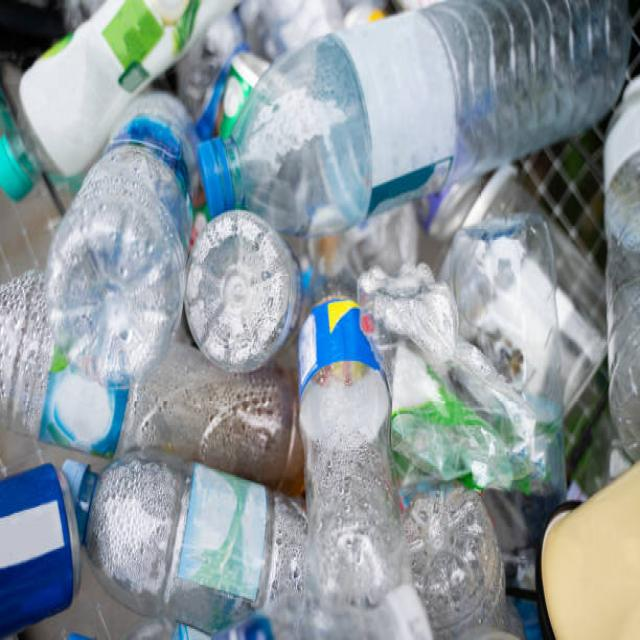plastic: (90, 174, 483, 598)
